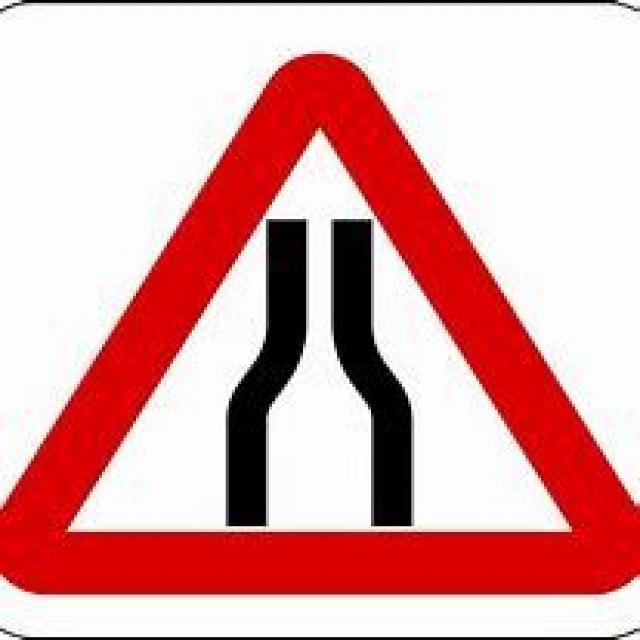NARROW_ROAD_AHEAD: (0, 51, 637, 592)
